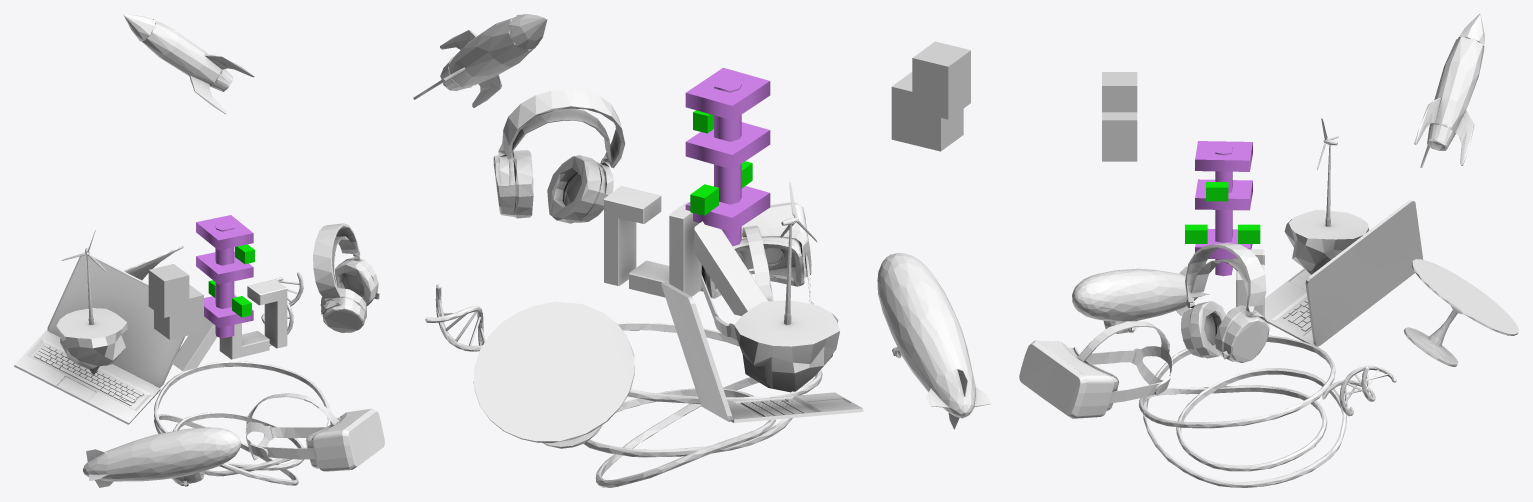
The picture shows the model from 3 angles, left to right: view 1: azimuth 30°, elevation 25°; view 2: azimuth 150°, elevation 25°; view 3: azimuth 270°, elevation 25°; orthographic projection. The views are drawn at different scales.
Visible parts, largest first — view 1: Notebook, Zeppelin, VR Headset, Headphones, tower, Altair Studio-Logo, Rocket.003, Roundcube.001, Curly, OverallParent, Table, DNA; view 2: Table, Altair Studio-Logo, tower, Headphones, Zeppelin, Roundcube.001, OverallParent, Curly, Notebook, VR Headset, Rocket.003, DNA; view 3: Notebook, VR Headset, Curly, Headphones, tower, Zeppelin, Rocket.003, Table, Roundcube.001, OverallParent, DNA, Altair Studio-Logo.
Part boxes in pixels (x1,y1,x2,y2): Notebook: (14,252,184,424); Zeppelin: (83,427,241,487); VR Headset: (245,393,384,471); Headphones: (313,223,379,332); tower: (196,215,254,338); Altair Studio-Logo: (171,279,287,371); Rocket.003: (123,14,254,114); Roundcube.001: (56,230,127,374); Curly: (154,361,330,485); OverallParent: (148,264,203,339); Table: (124,246,183,280); DNA: (261,272,303,345); Table: (473,301,634,448); Altair Studio-Logo: (604,186,767,315); tower: (685,67,770,246); Headphones: (493,89,625,223); Zeppelin: (877,253,990,429); Roundcube.001: (734,182,839,392); OverallParent: (891,41,970,151); Curly: (583,322,822,487); Notebook: (661,282,863,422); VR Headset: (700,202,813,340); Rocket.003: (413,14,547,107); DNA: (425,284,485,351); Notebook: (1265,199,1423,346); VR Headset: (1019,321,1172,418); Curly: (1138,335,1346,487); Headphones: (1181,243,1269,362); tower: (1185,141,1260,276); Zeppelin: (1072,266,1209,333); Rocket.003: (1414,14,1484,167); Table: (1404,259,1518,366); Roundcube.001: (1284,118,1369,274); OverallParent: (1102,72,1137,161); DNA: (1322,365,1396,416); Altair Studio-Logo: (1236,249,1264,320).
Size of the model in its own units: 63.68 by 75.73 by 77.01.
Materials: 13 (10 with a texture image).
